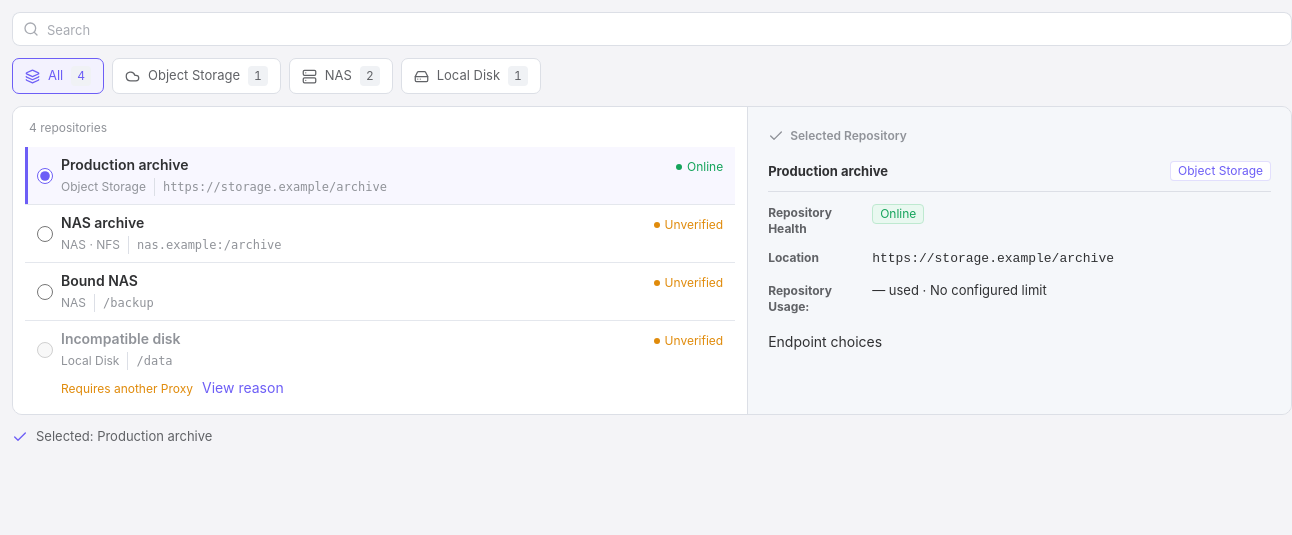
Scenario: TargetRepositoryPicker › returns to the selected details by clicking the selected input without reassigning it
The image size is (1292, 535).
Click the button "View reason".
click(243, 388)  # box 199,378 -> 287,398
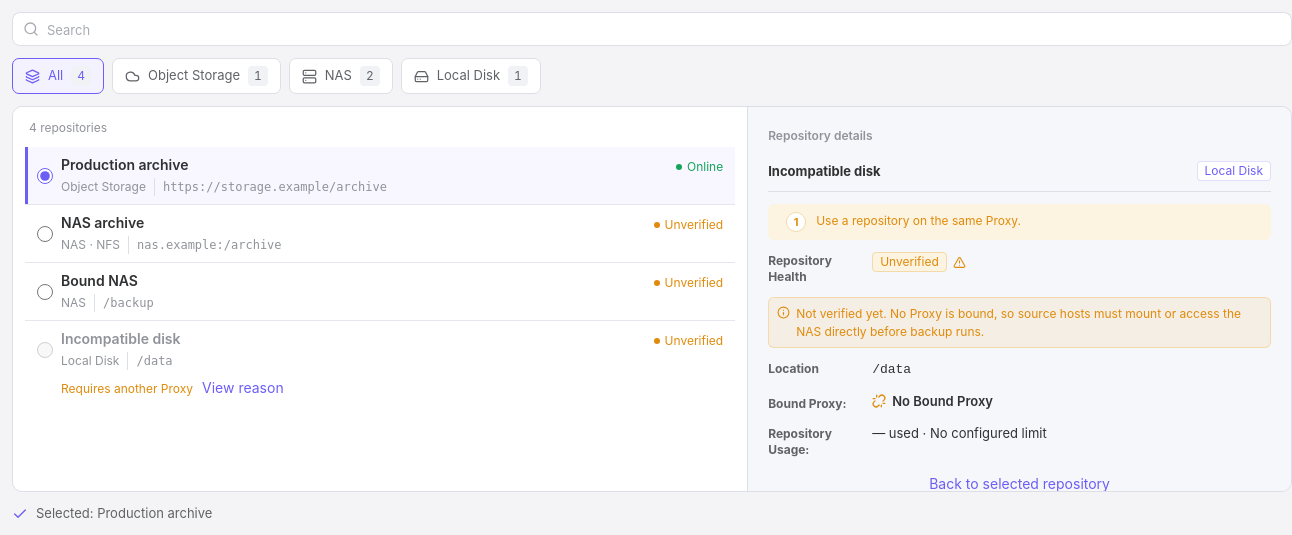
Click the 1st radio button.
click(45, 176)  # box 37,168 -> 53,184
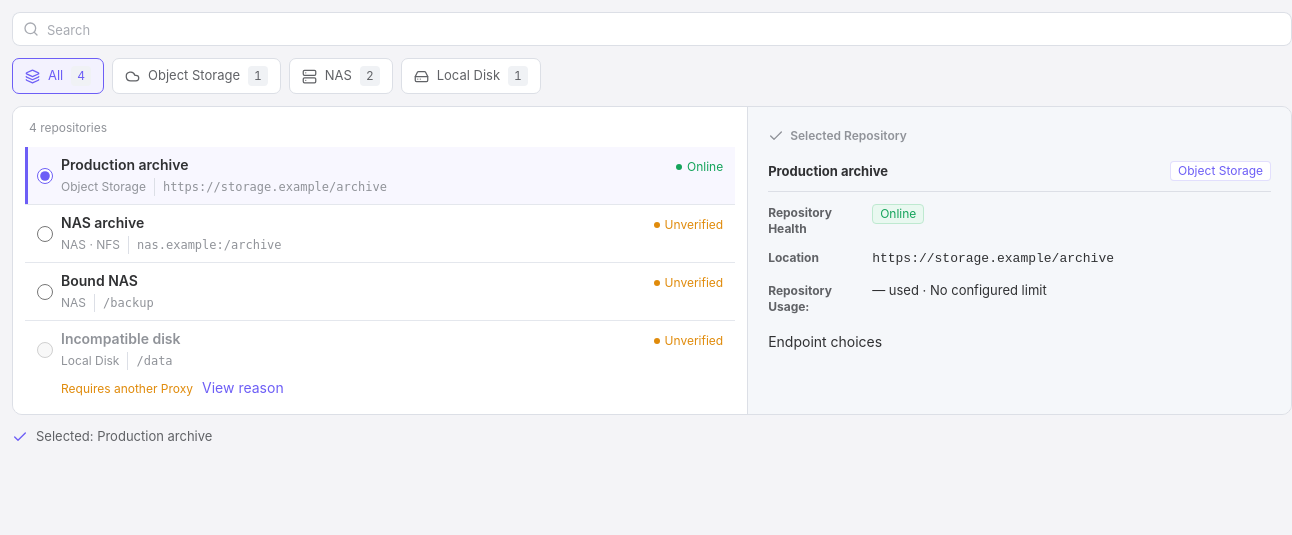
Result: the element with class "target-repository-picker__detail" shows "Production archive" at 768,163 -> 888,179
Result: the text "Endpoint choices" is shown at 768,333 -> 882,350
